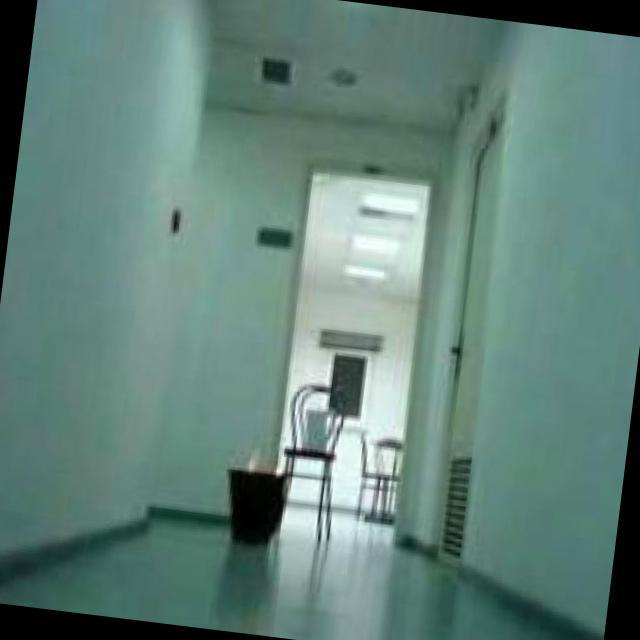Fire: (240, 457, 274, 474)
